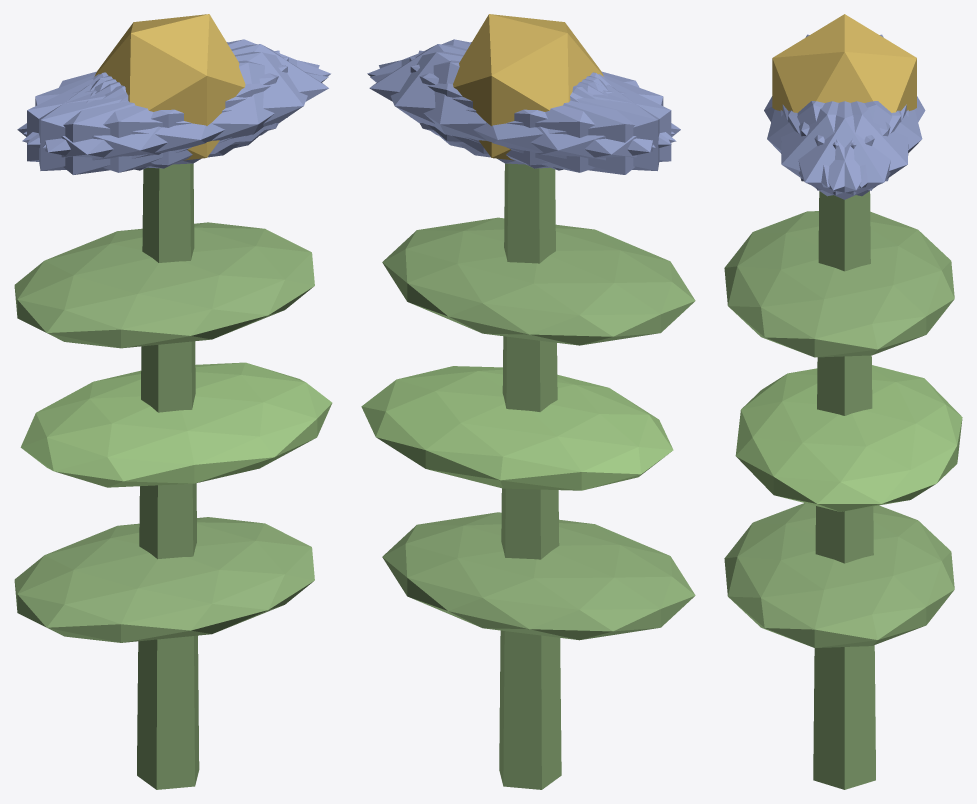
Rendered from phyllanthus-urinaria.glb.
3 renders of one model, left to right at view 1: azimuth 30°, elevation 25°; view 2: azimuth 150°, elevation 25°; view 3: azimuth 270°, elevation 25°, orthographic.
Parts seen in each view (by area): view 1: leaf2, leaf0, leaf1, stem, center, petal1, petal6, petal2, petal5, petal7, petal0, petal4 (+2 smaller); view 2: leaf2, leaf1, leaf0, stem, center, petal8, petal3, petal7, petal4, petal2, petal0, petal5 (+2 smaller); view 3: leaf2, leaf1, leaf0, stem, center, petal0, petal4, petal5, petal8, petal1.
Part boxes in pixels (bbox=[...]): leaf2: bbox=[14, 222, 314, 348]; leaf0: bbox=[14, 517, 314, 642]; leaf1: bbox=[20, 362, 332, 487]; stem: bbox=[137, 163, 199, 789]; center: bbox=[94, 14, 245, 160]; petal1: bbox=[22, 60, 328, 172]; petal6: bbox=[17, 74, 238, 174]; petal2: bbox=[39, 50, 279, 170]; petal5: bbox=[43, 51, 319, 165]; petal7: bbox=[27, 57, 288, 168]; petal0: bbox=[94, 44, 328, 154]; petal4: bbox=[23, 39, 330, 145]; leaf2: bbox=[382, 217, 695, 345]; leaf1: bbox=[361, 366, 673, 490]; leaf0: bbox=[382, 512, 695, 640]; stem: bbox=[499, 163, 561, 789]; center: bbox=[453, 14, 603, 160]; petal8: bbox=[370, 60, 676, 172]; petal3: bbox=[459, 74, 680, 174]; petal7: bbox=[418, 50, 659, 170]; petal4: bbox=[379, 51, 655, 165]; petal2: bbox=[409, 57, 671, 168]; petal0: bbox=[369, 44, 603, 154]; petal5: bbox=[367, 39, 674, 144]; leaf2: bbox=[724, 211, 954, 357]; leaf1: bbox=[735, 365, 962, 511]; leaf0: bbox=[724, 503, 954, 647]; stem: bbox=[813, 191, 875, 789]; center: bbox=[772, 14, 916, 112]; petal0: bbox=[782, 101, 906, 199]; petal4: bbox=[788, 101, 908, 196]; petal5: bbox=[780, 101, 901, 196]; petal8: bbox=[799, 101, 922, 187]; petal1: bbox=[767, 101, 890, 187].
Bounding box in the file's own units: 0.1452 × 0.347 × 0.1008.
